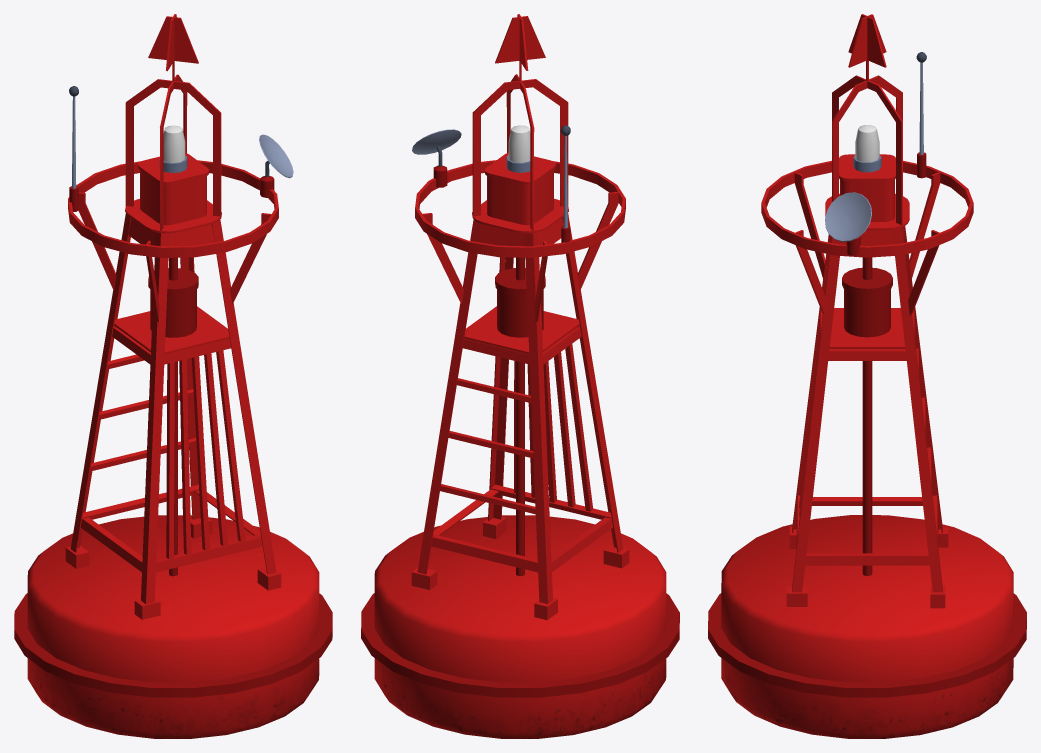
File: Buoy01.fbx
3 views of the same model, side by side, from view 1: azimuth 30°, elevation 25°; view 2: azimuth 150°, elevation 25°; view 3: azimuth 270°, elevation 25° (orthographic).
Visible parts, largest first — view 1: Buoy01; view 2: Buoy01; view 3: Buoy01.
Boxes of the visible parts, bbox=[...] form: Buoy01: bbox=[14, 14, 332, 738]; Buoy01: bbox=[361, 14, 679, 738]; Buoy01: bbox=[708, 14, 1026, 738].
Size of the model in its own units: 1.57 by 3.6 by 1.57.
